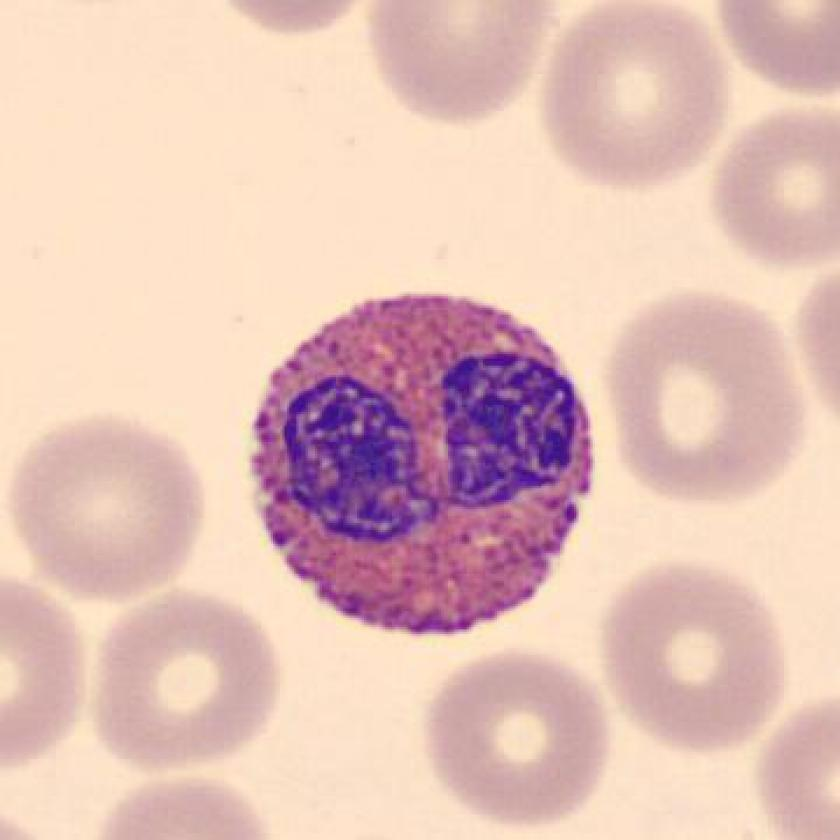eosinophil: (230, 284, 615, 645)
